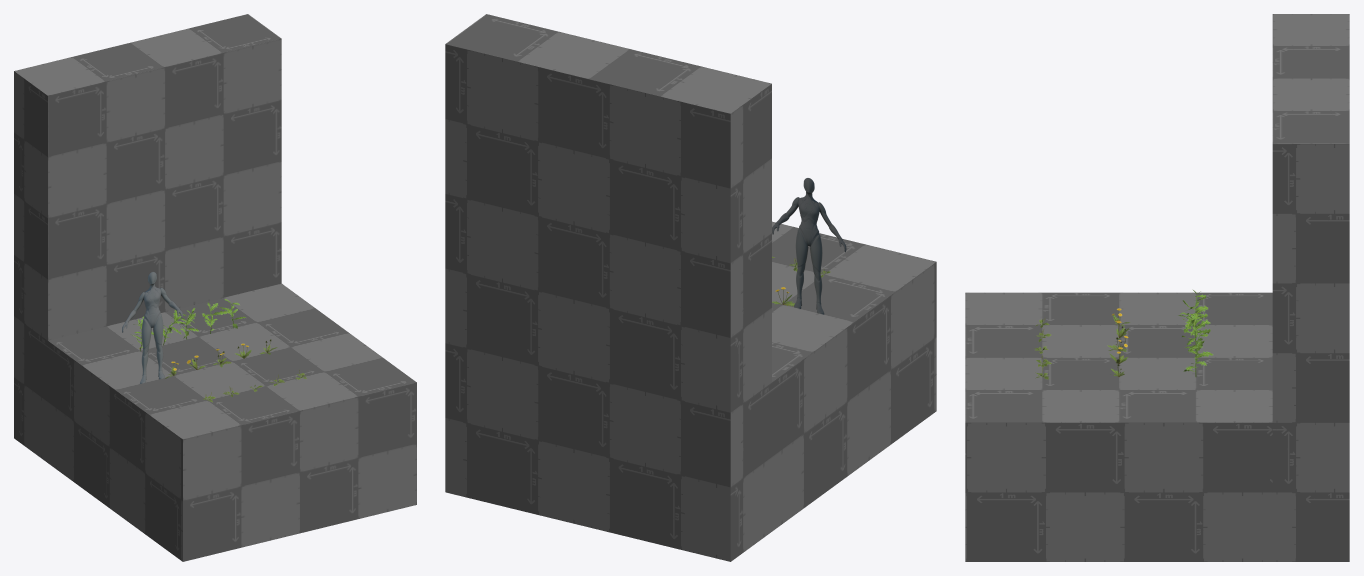
File: undergrowth_pack_lowpoly_game-ready.glb
3 renders of one model, left to right at view 1: azimuth 30°, elevation 25°; view 2: azimuth 150°, elevation 25°; view 3: azimuth 270°, elevation 25°, orthographic. The views are drawn at different scales.
Visible parts, largest first — view 1: Ground, Man ref; view 2: Ground, Man ref; view 3: Ground.
Boxes of the visible parts, <box> form: Ground: <box>14,14,416,561</box>; Man ref: <box>121,272,182,383</box>; Ground: <box>445,14,936,561</box>; Man ref: <box>772,178,846,314</box>; Ground: <box>965,14,1349,561</box>.
Size of the model in its own units: 4 by 6 by 5.
5 materials, 5 textured.
